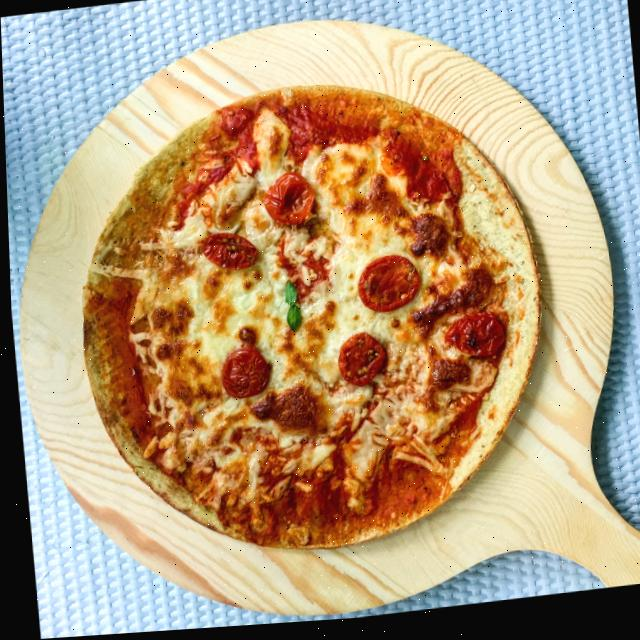basil: (277, 284, 300, 334)
pizza: (58, 62, 557, 576)
tomatoes: (352, 254, 418, 320), (436, 314, 504, 370), (256, 168, 315, 232), (211, 341, 268, 403), (330, 332, 385, 392), (192, 230, 257, 278)
